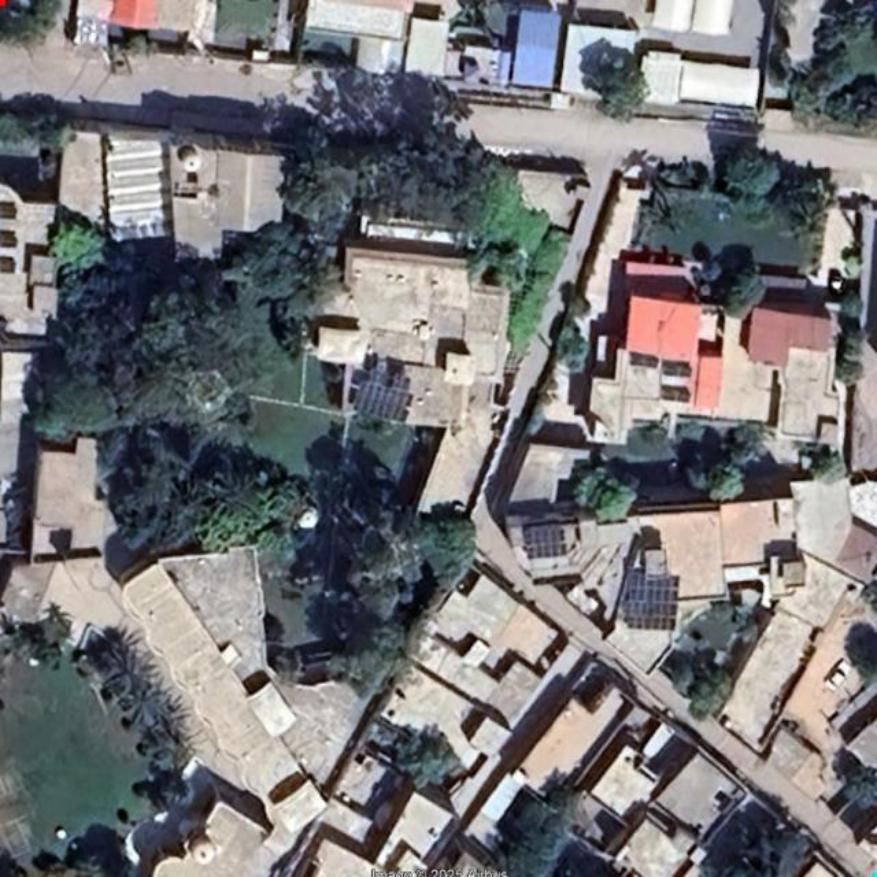Solarpanel: (629, 571, 680, 628), (353, 378, 416, 420), (525, 524, 567, 560)
